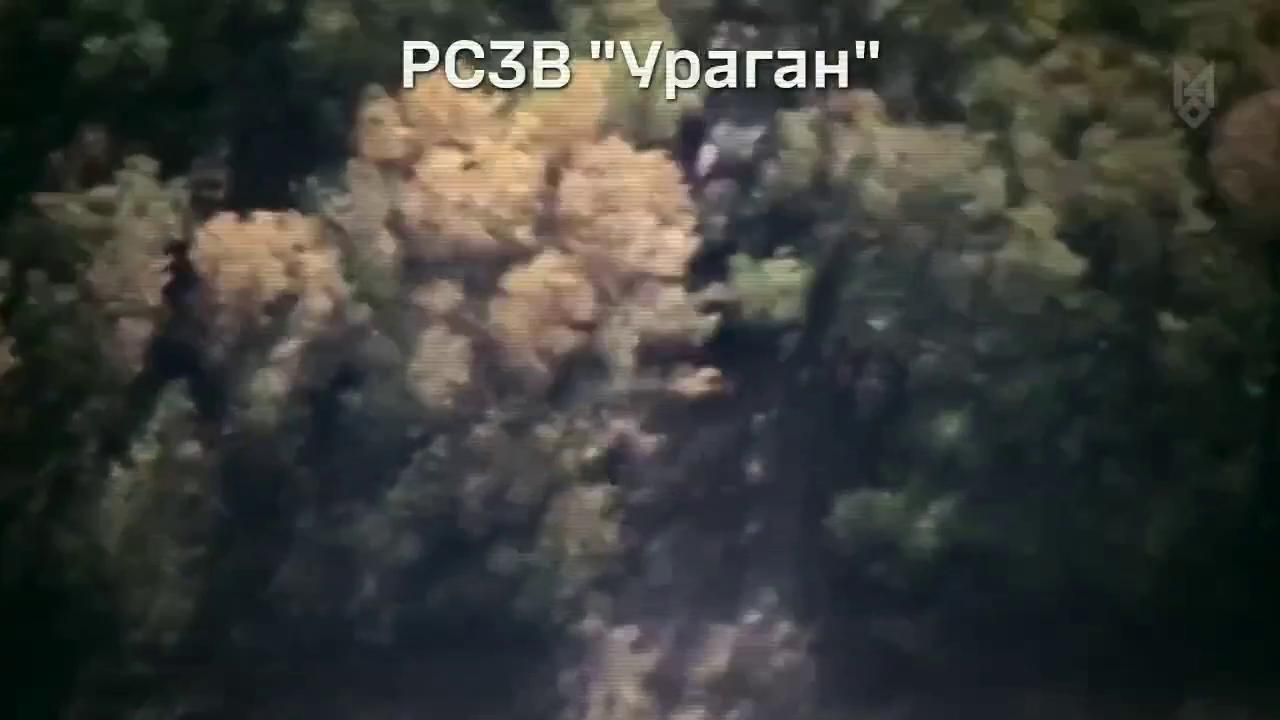tank: (690, 107, 799, 258)
